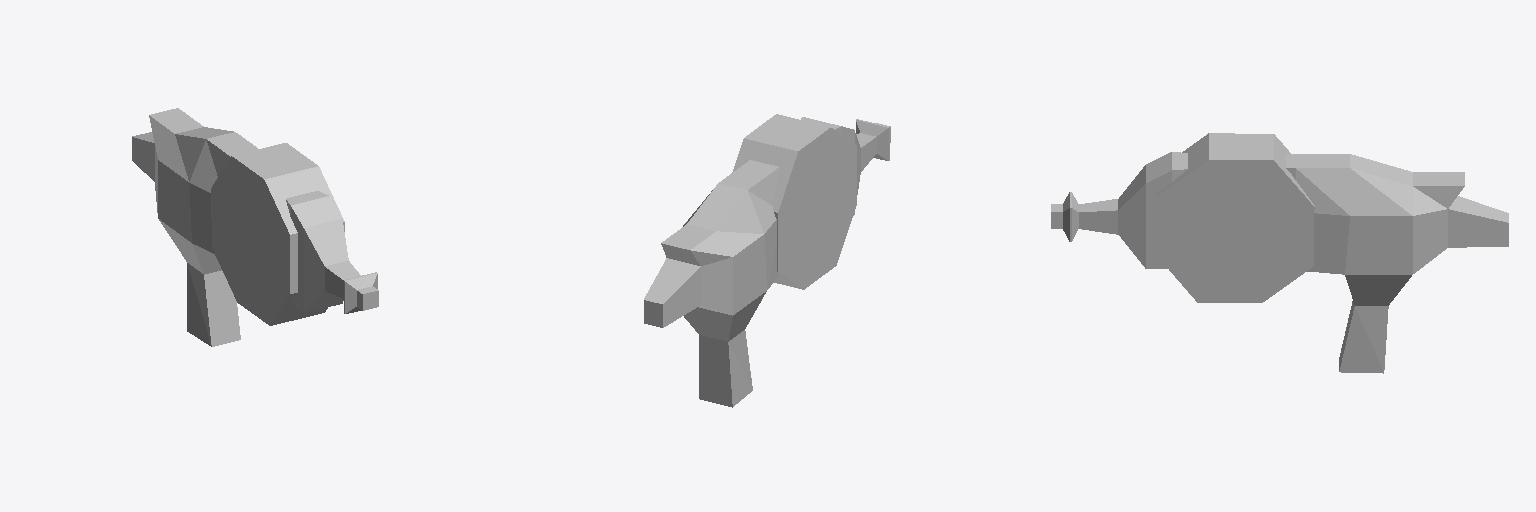
The model's file is Orange Blaster.obj.
The picture shows the model from 3 angles: view 1: azimuth 30°, elevation 25°; view 2: azimuth 150°, elevation 25°; view 3: azimuth 270°, elevation 25°; orthographic projection.
Parts seen in each view (by area): view 1: pCube1 group1_pCube1 group1, group1 pCube2; view 2: pCube1 group1_pCube1 group1, group1 pCube2; view 3: pCube1 group1_pCube1 group1, group1 pCube2.
Boxes of the visible parts, box(x1,y1,x2,y2) form: pCube1 group1_pCube1 group1: box(132, 108, 378, 346); group1 pCube2: box(211, 143, 344, 325); pCube1 group1_pCube1 group1: box(644, 117, 890, 407); group1 pCube2: box(732, 114, 856, 289); pCube1 group1_pCube1 group1: box(1051, 152, 1508, 373); group1 pCube2: box(1157, 133, 1314, 302).
Size of the model in its own units: 15.95 by 52.85 by 101.